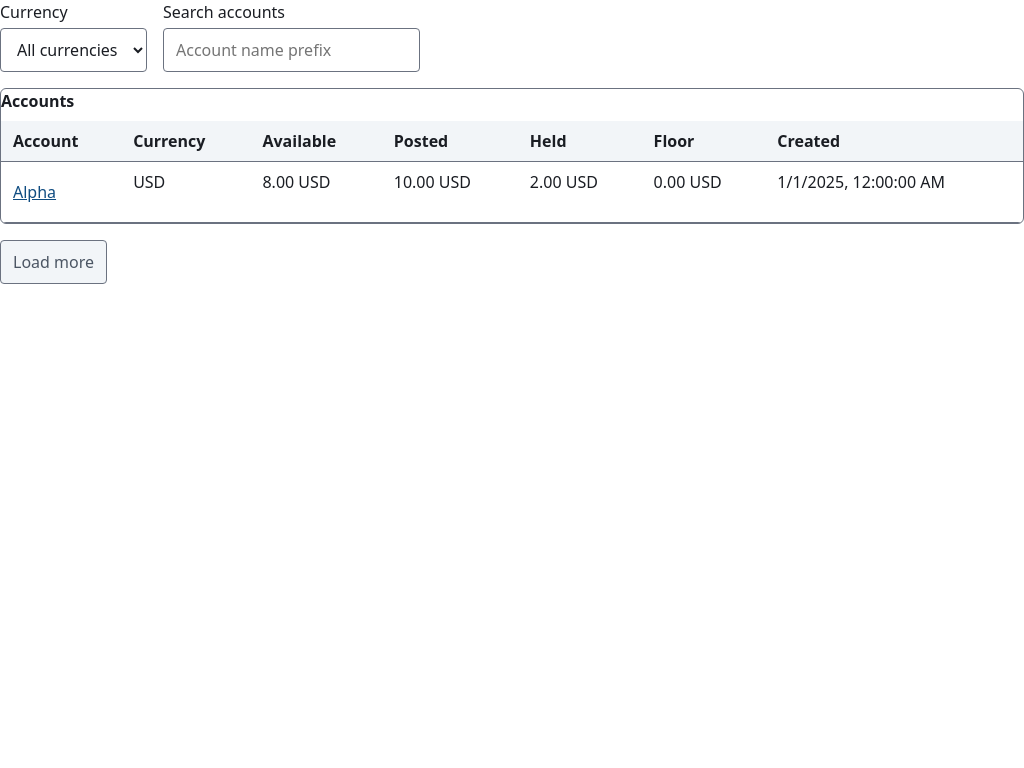
Test: AccountsPage › drawer opens and returns focus
Click the button "Alpha" at {"x": 35, "y": 192}, box [13,170,56,214]
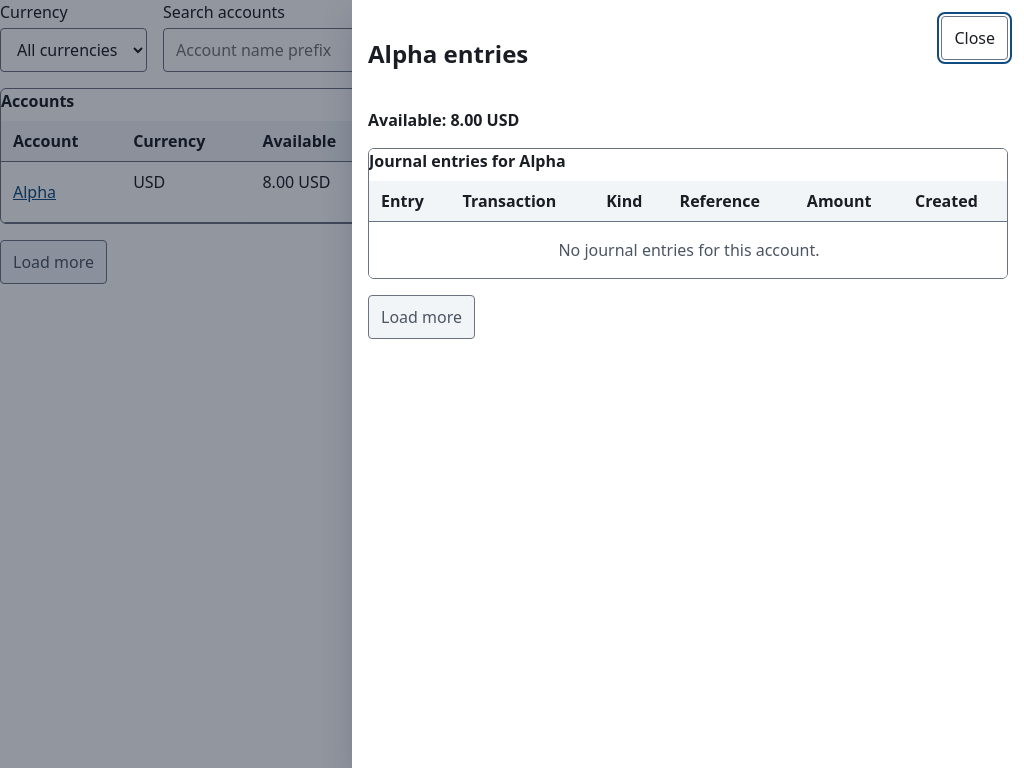
Expected: the dialog "Alpha entries" is shown
Click the button "Close" at {"x": 975, "y": 38}, box [941,16,1008,60]
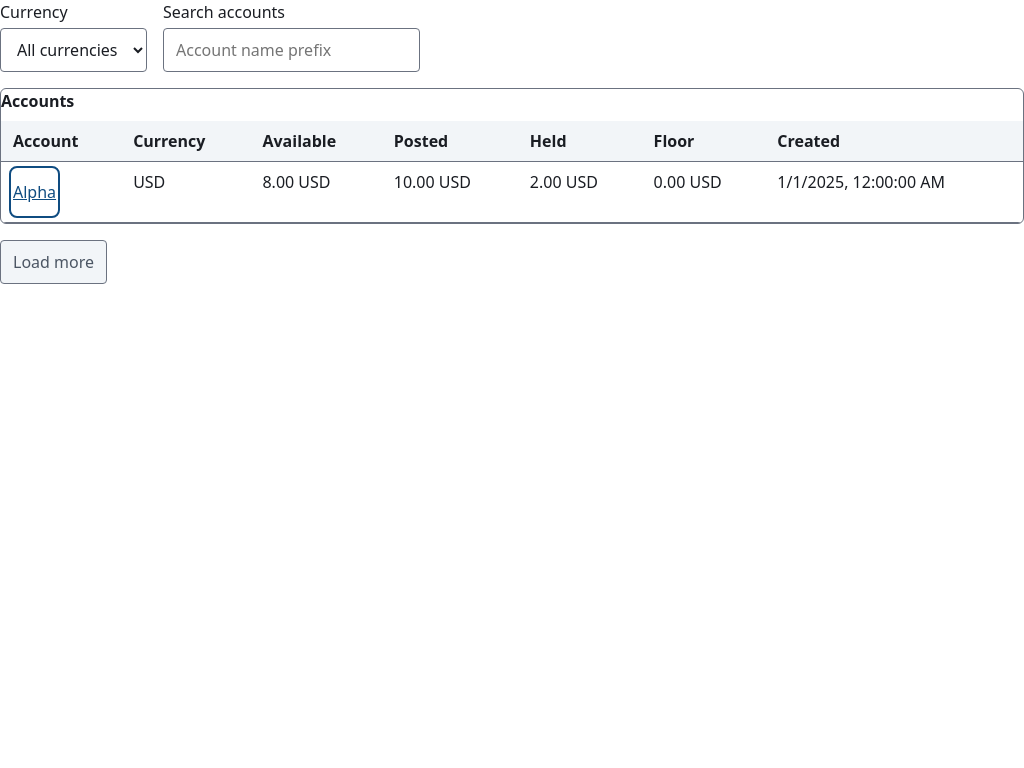
Expected: the dialog is gone
